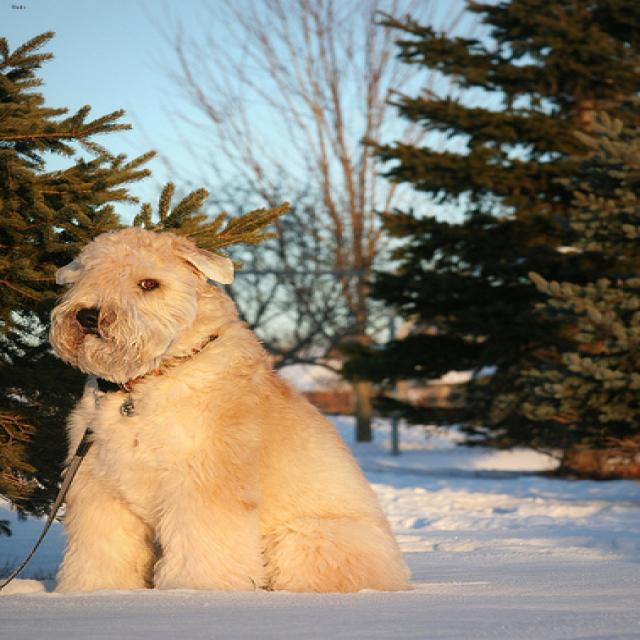dog-wheaten_terrier: (37, 224, 432, 596)
